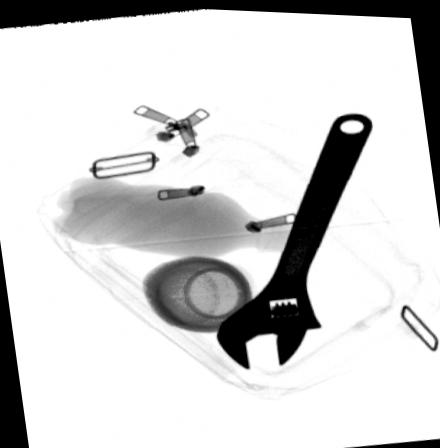Wrench: (214, 108, 376, 370)
